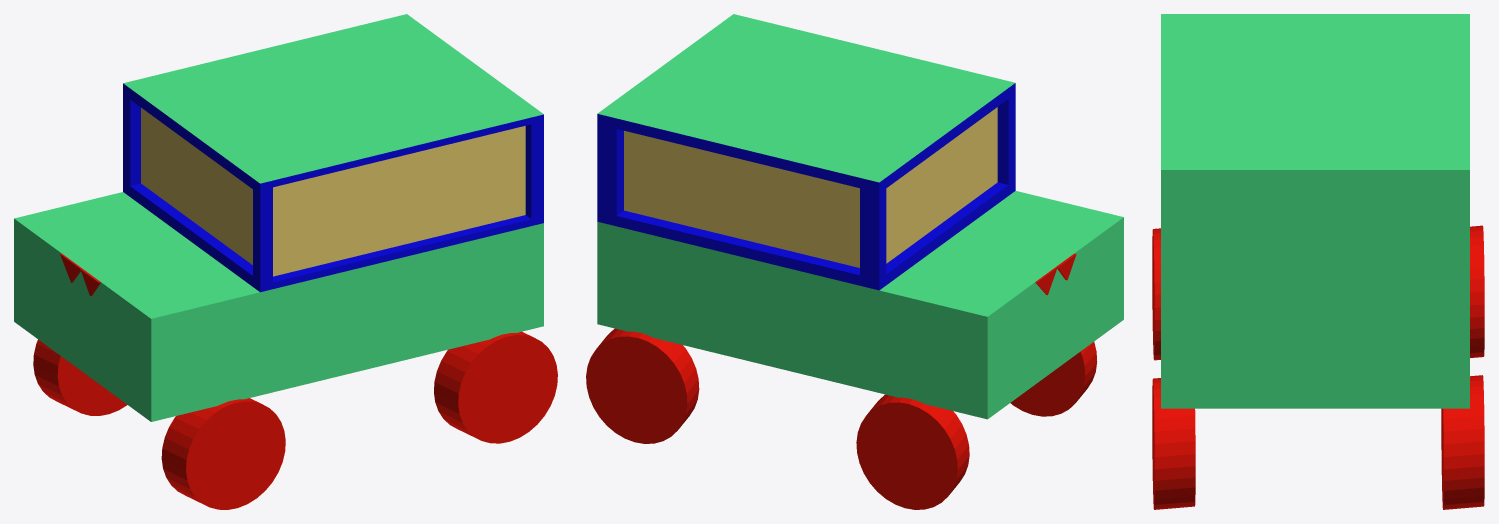
Rendered from abc.fbx.
The picture shows the model from 3 angles, left to right: view 1: azimuth 30°, elevation 25°; view 2: azimuth 150°, elevation 25°; view 3: azimuth 270°, elevation 25°; orthographic projection. The views are drawn at different scales.
Visible parts, largest first — view 1: Cube; view 2: Cube; view 3: Cube.
Part boxes in pixels (x1,y1,x2,y2): Cube: (14, 14, 557, 509); Cube: (586, 14, 1123, 509); Cube: (1152, 14, 1484, 509).
Bounding box in the file's own units: 261 × 194 × 164.
